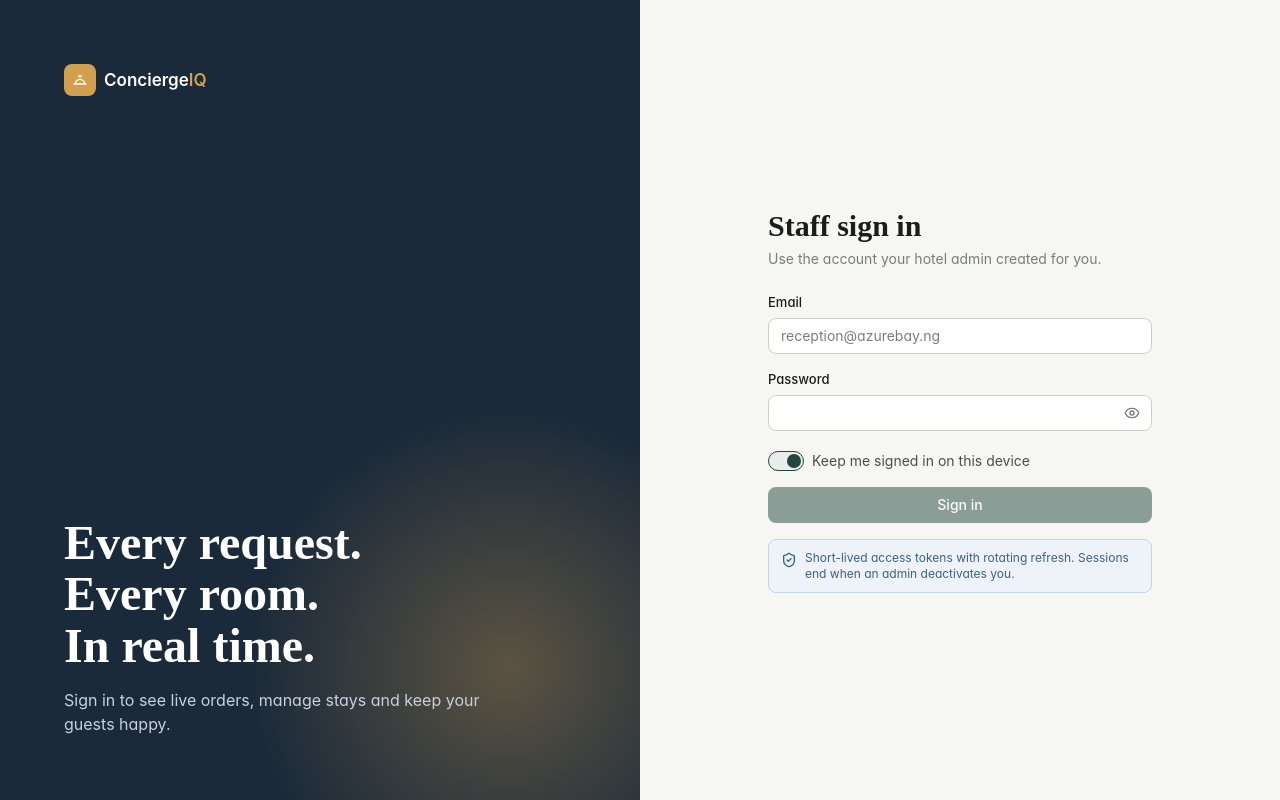
Test: server error handling › shows the "do not match" message when credentials are wrong
Expected: the heading "Staff sign in" is shown, [768,209,921,242]
Type "amaka@azurebay.test" into the field labelled "Email" at (960, 336), box [768,318,1152,354]
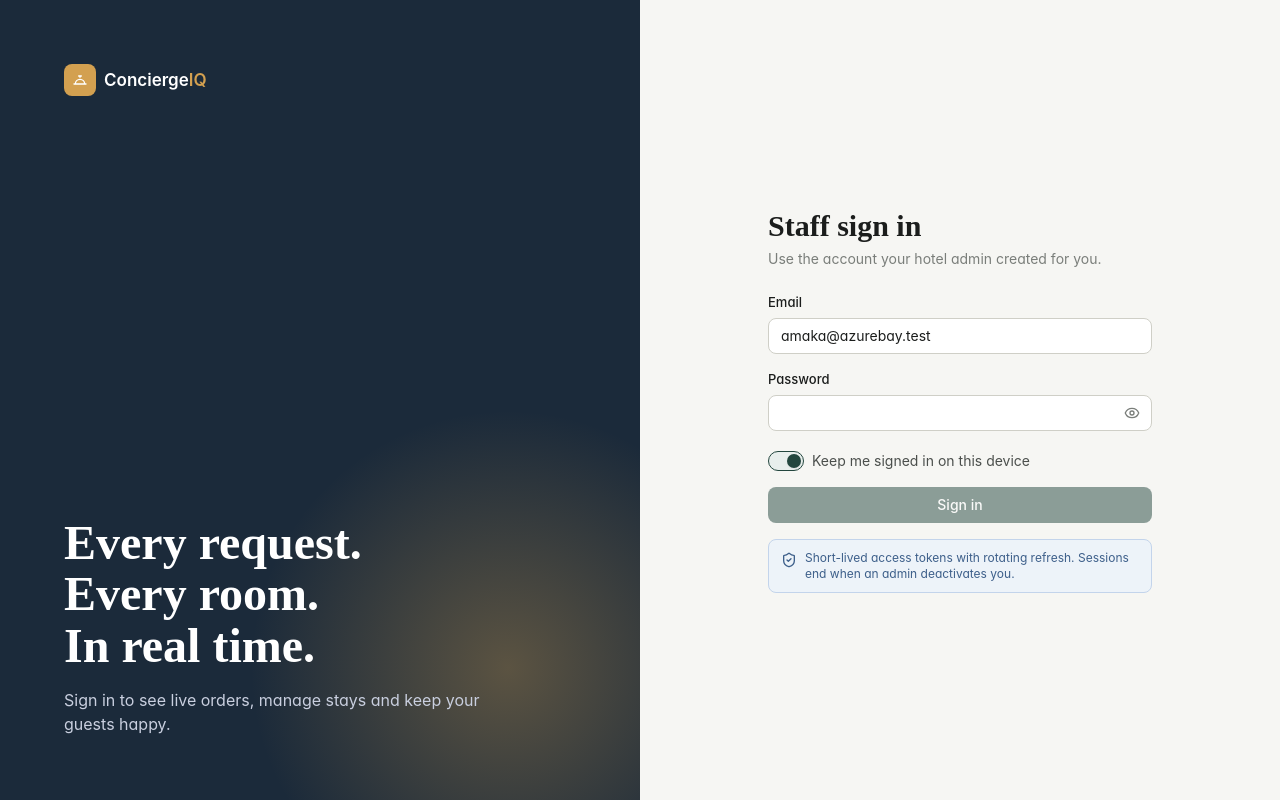
Type "wrongpassword" into the password field labelled "Password" at (960, 413), box [768,395,1152,431]
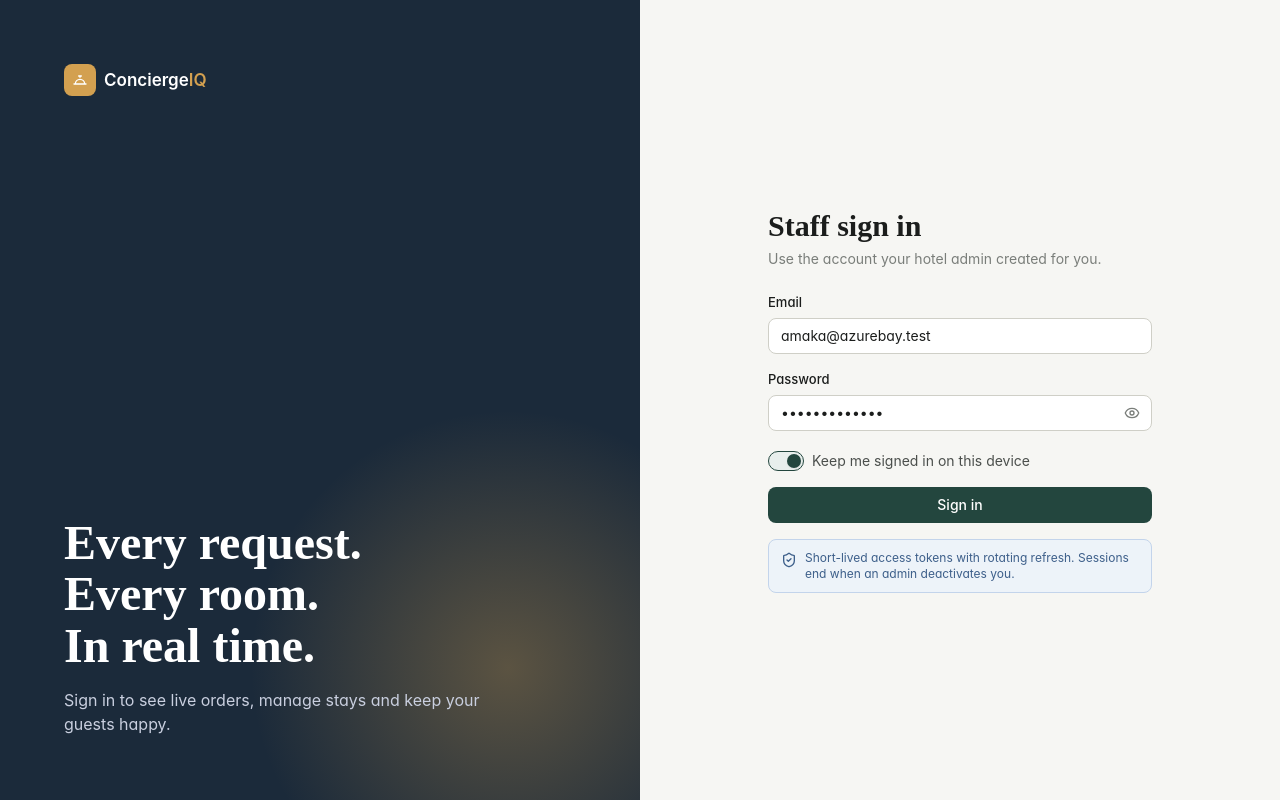
Click the button "Sign in" at (960, 505), box [768,487,1152,523]
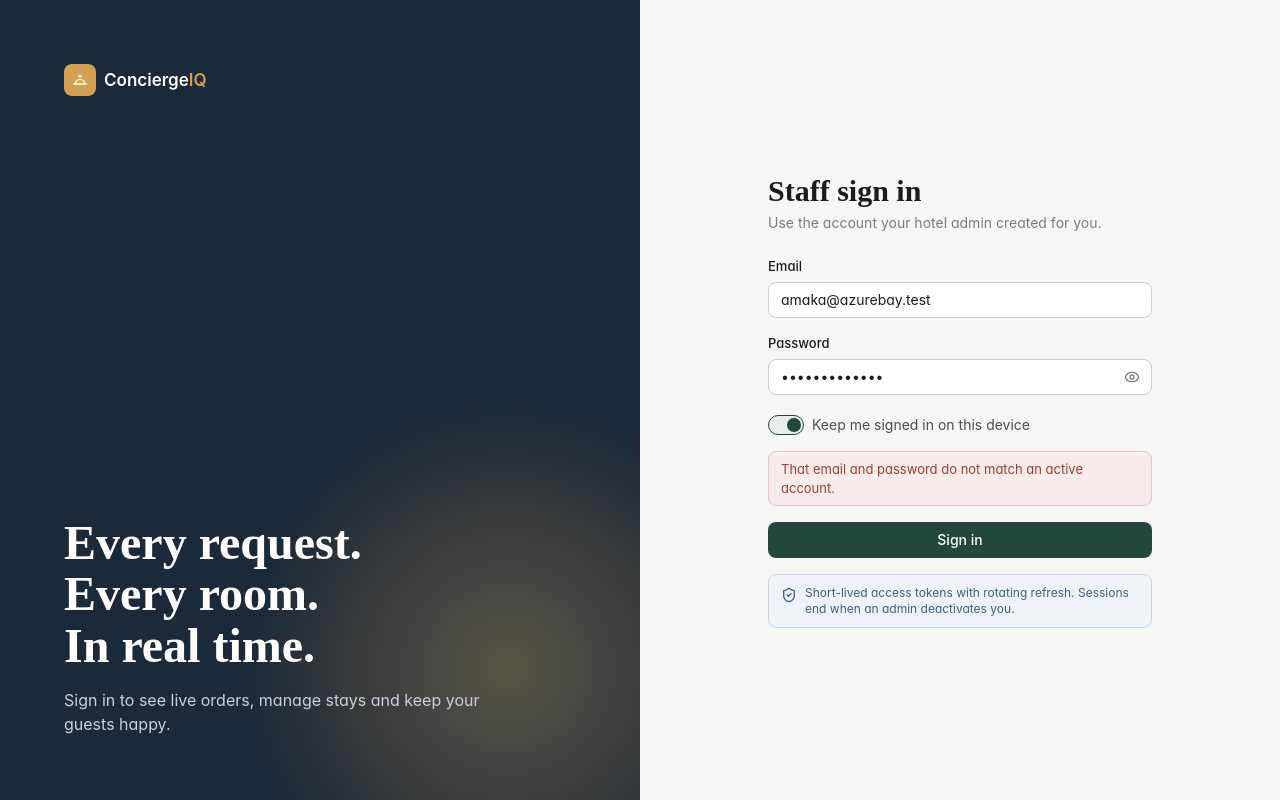
Result: the message shows "do not match an active account" at [781,461,1083,496]
